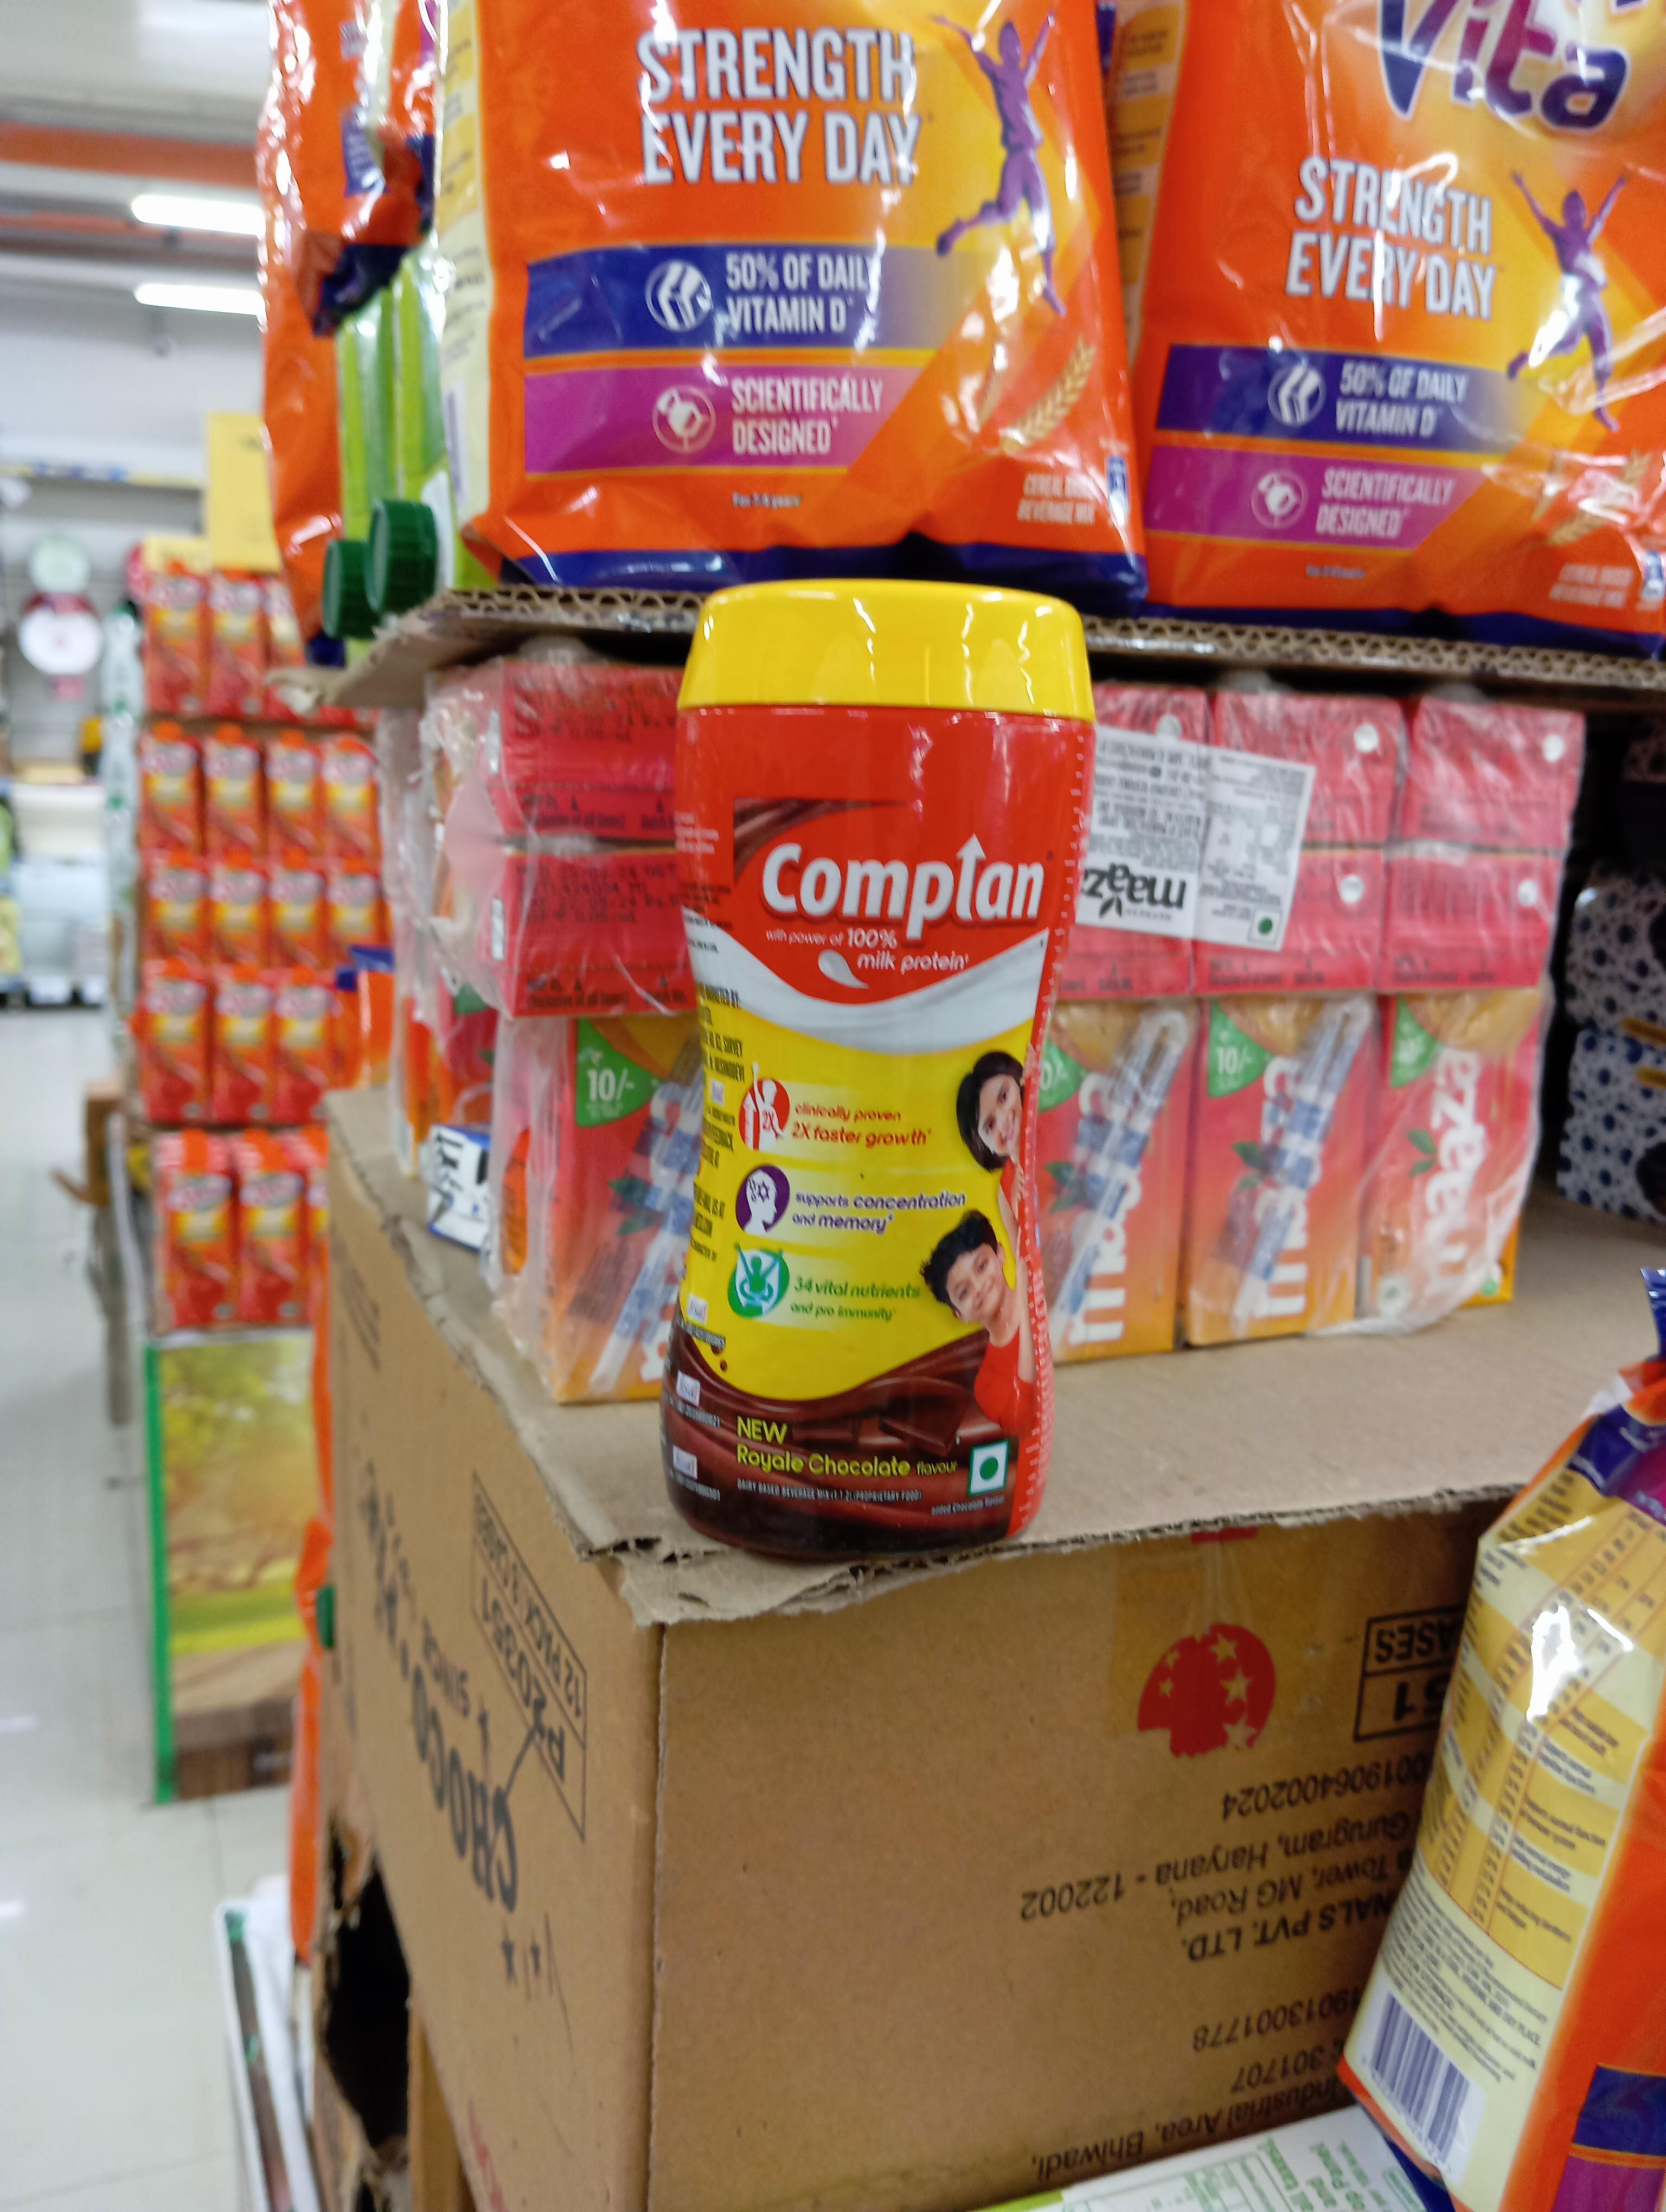COMPLAN_CHOCOLATE_200_GMS_JAR: (672, 586, 1064, 1555)
